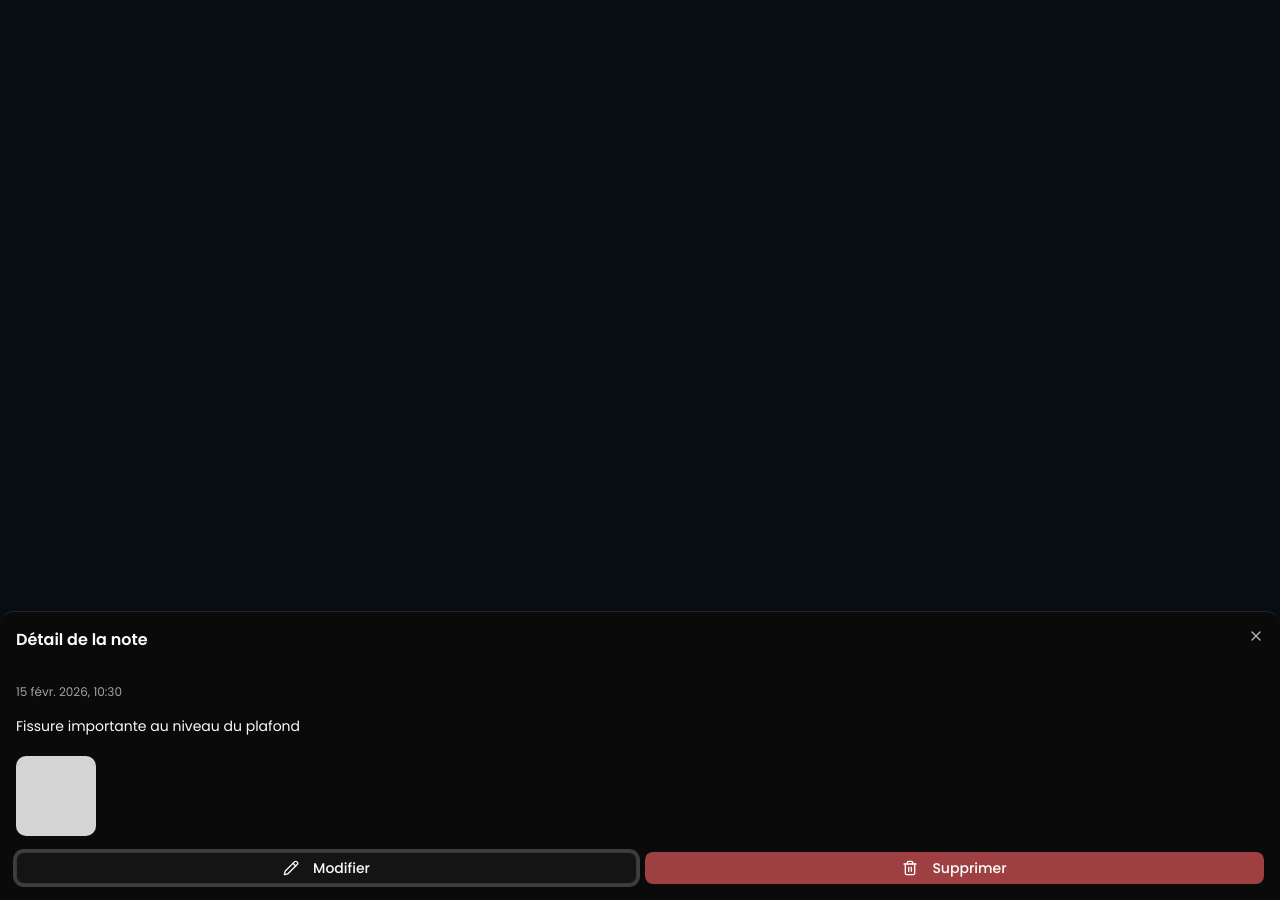
Test case: NoteDetailDialog › mentions photo in delete confirmation when note has photo
This screenshot has width=1280, height=900.
Click the button "Supprimer" at (954, 868), box [645,852,1264,884]
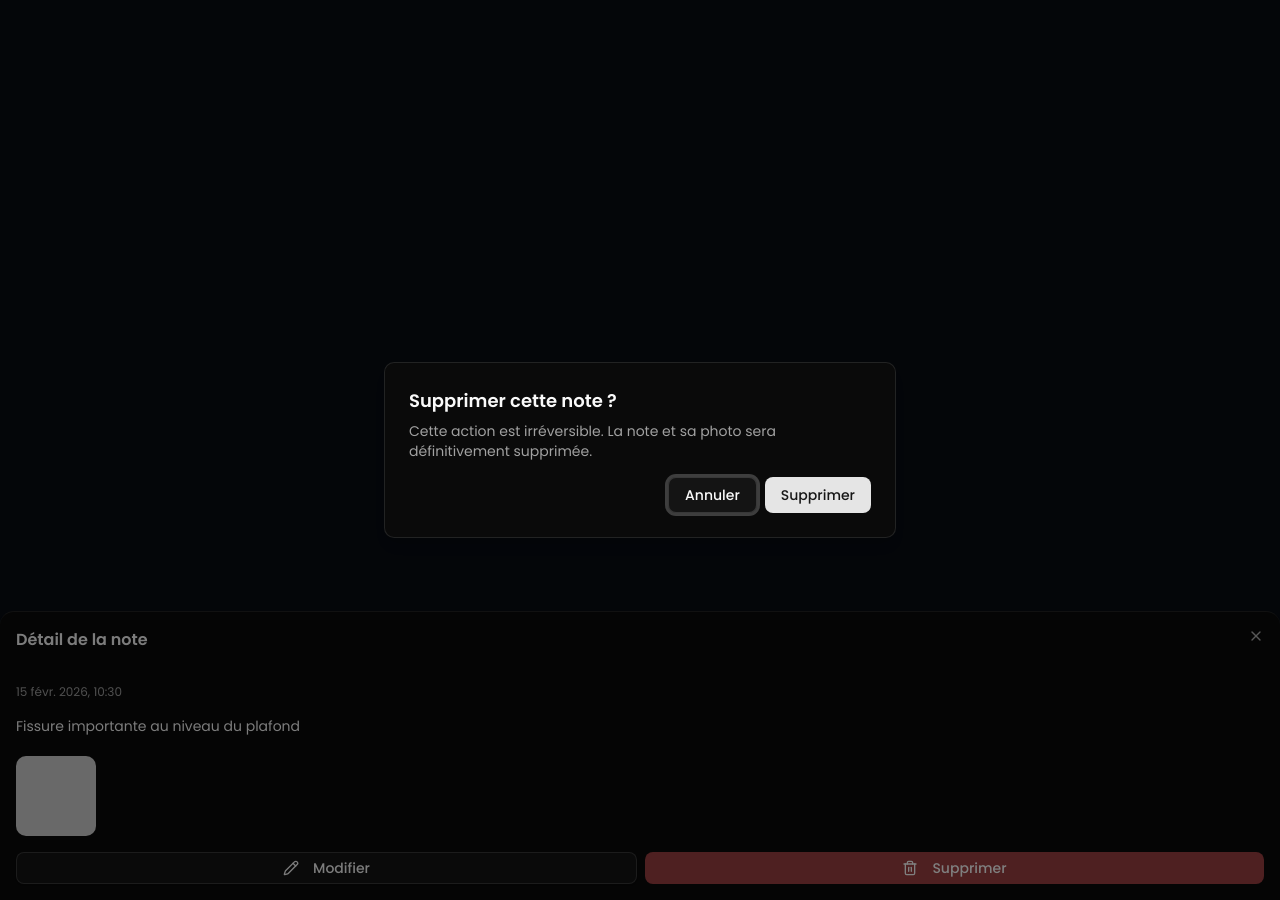
Check: the text "et sa photo" is shown, box [658,421,742,441]
